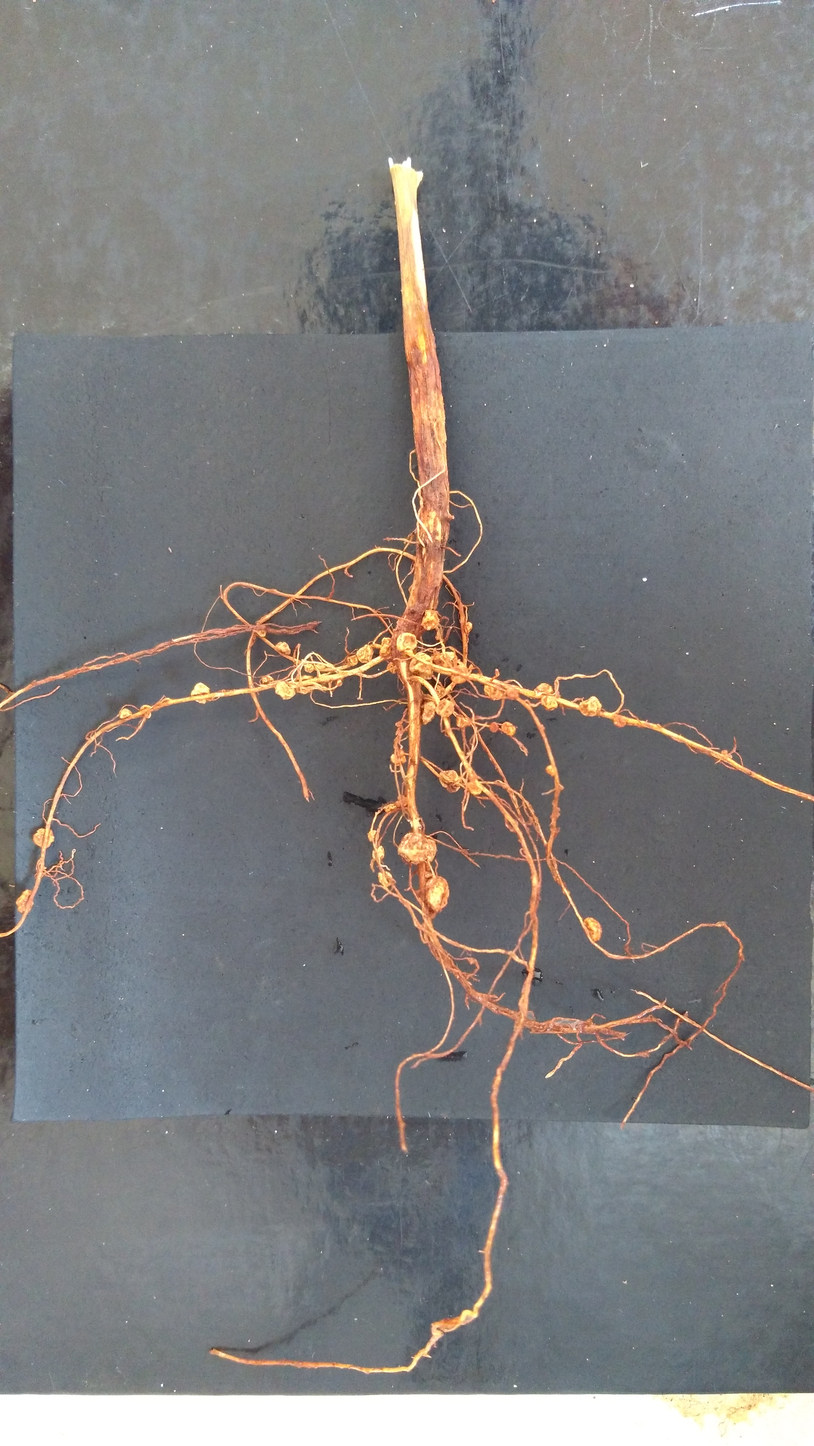nodule: (395, 831, 438, 863), (424, 875, 450, 913), (408, 652, 433, 680), (438, 769, 463, 793), (14, 888, 35, 915), (578, 695, 602, 718), (31, 827, 56, 849), (189, 682, 211, 705), (583, 916, 602, 942), (450, 662, 470, 685), (434, 697, 455, 718), (274, 681, 296, 701), (396, 632, 418, 652), (296, 674, 316, 695), (421, 609, 440, 631), (420, 700, 436, 726), (356, 643, 374, 664), (539, 694, 559, 712), (433, 651, 456, 665), (483, 685, 503, 701), (503, 814, 519, 834), (377, 871, 394, 888), (500, 720, 517, 737), (534, 682, 556, 695), (467, 780, 483, 797), (368, 846, 386, 861), (390, 750, 407, 765), (275, 641, 292, 656), (544, 763, 560, 778), (455, 714, 469, 728), (395, 793, 409, 807), (612, 716, 627, 729), (139, 704, 152, 719), (383, 802, 397, 815), (505, 687, 518, 701), (378, 643, 391, 657), (119, 708, 133, 720), (386, 661, 397, 675), (260, 675, 275, 685), (346, 655, 358, 667), (302, 663, 315, 674), (367, 830, 377, 843), (489, 721, 499, 733), (381, 637, 392, 647), (465, 621, 473, 634), (255, 630, 267, 638), (315, 663, 326, 670), (425, 870, 434, 878), (336, 679, 343, 687), (720, 750, 728, 755)
